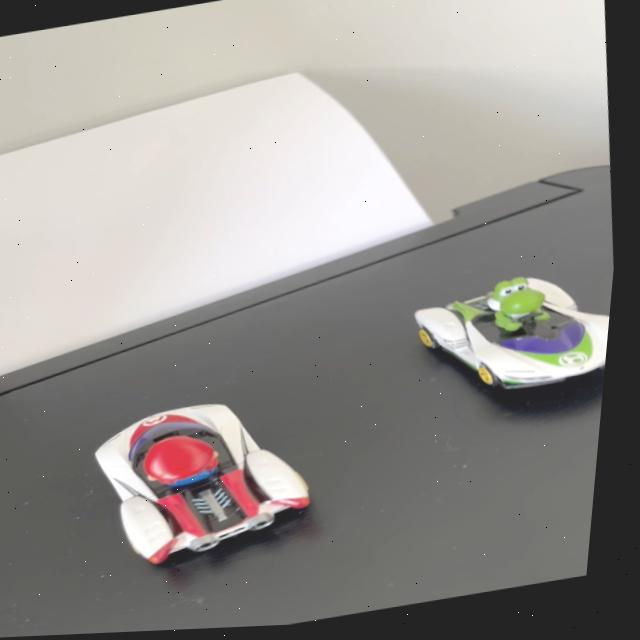mario: (80, 380, 359, 583)
yoshi: (394, 253, 621, 421)
